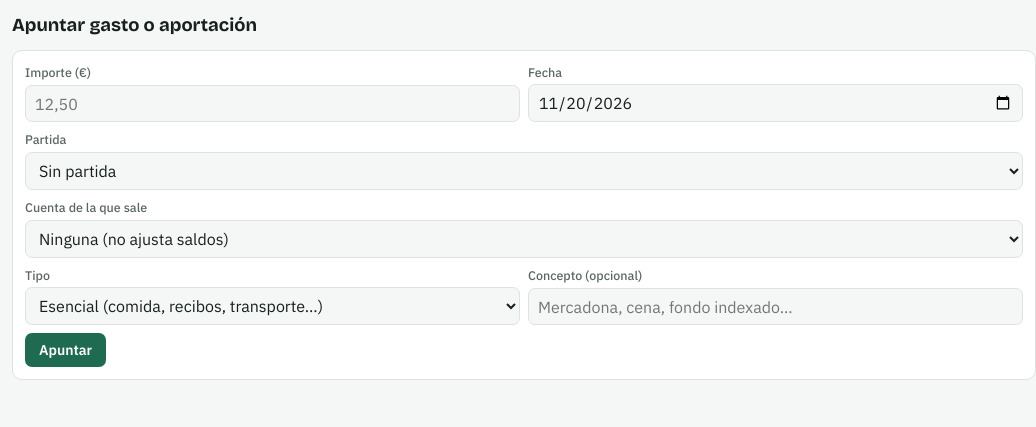
Test: ApuntarGasto › un importe no válido muestra el aviso y no apunta nada
Type "abc" into the field labelled "Importe (€)" at (272, 104), box [25,85,520,122]
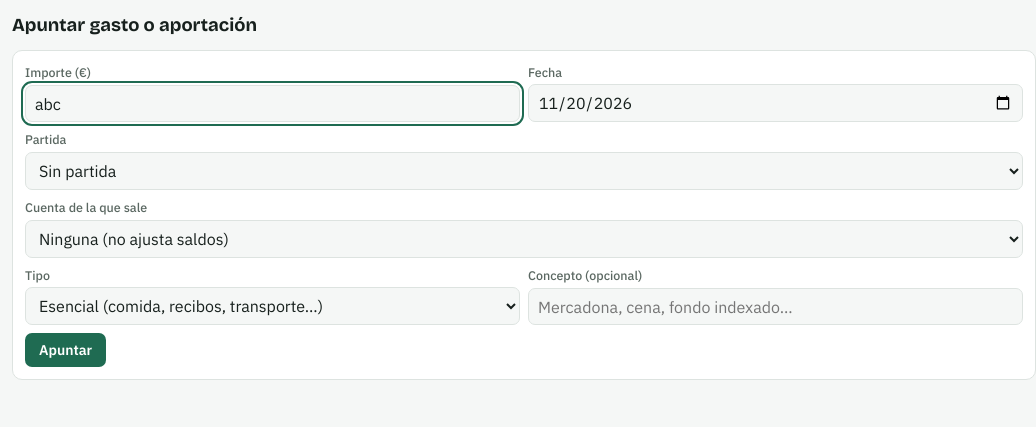
Click the button "Apuntar" at (66, 350), box [25,334,106,368]
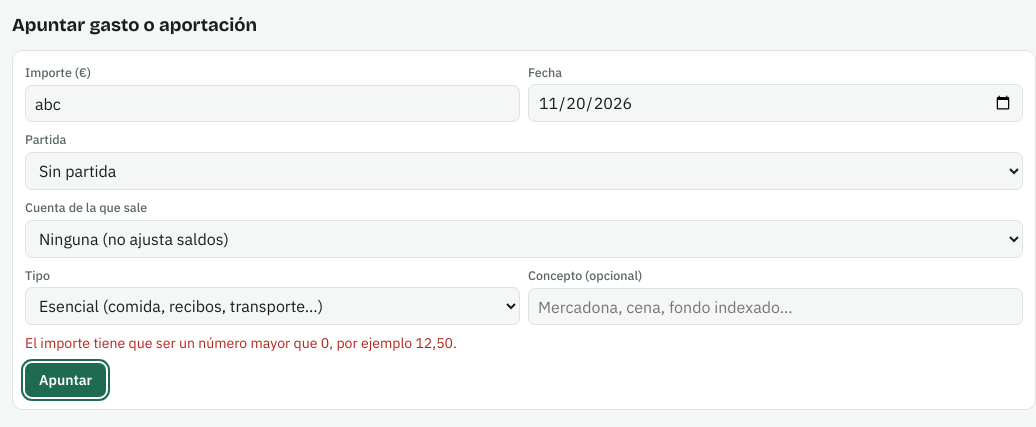
Check: the message reads "El importe tiene que ser un número mayor que 0, por ejemplo 12,50.", box [25,334,457,352]
